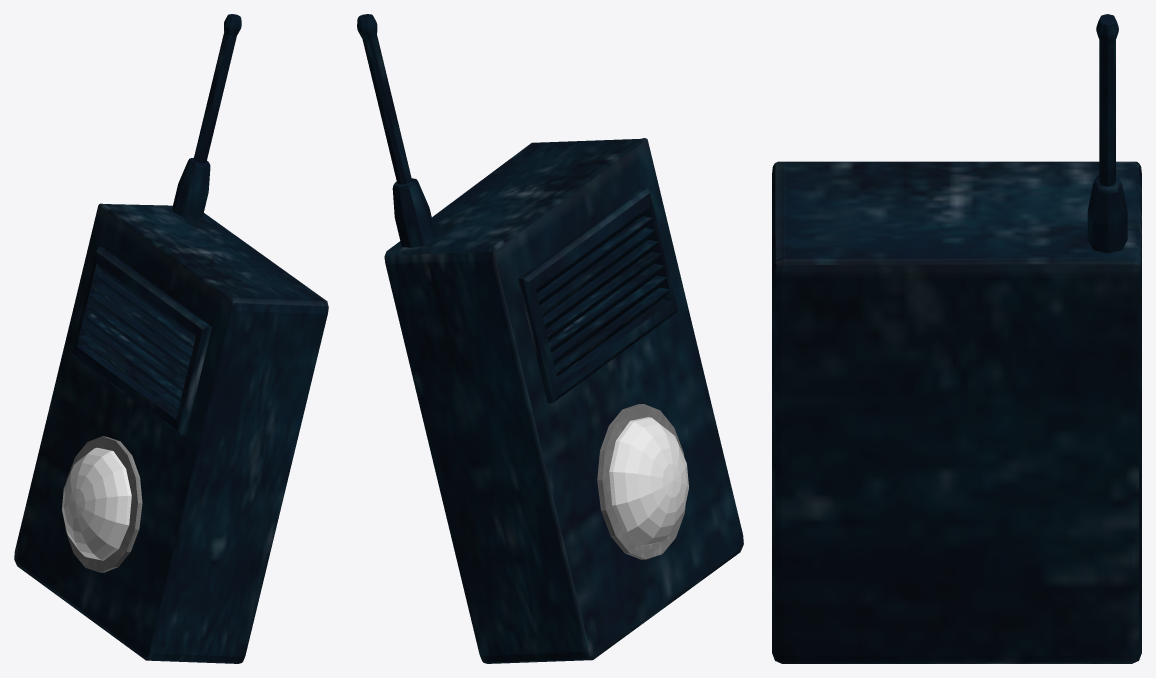
Rendered from Sonar.fbx.
3 views of the same model, side by side, from view 1: azimuth 30°, elevation 25°; view 2: azimuth 150°, elevation 25°; view 3: azimuth 270°, elevation 25° (orthographic). The views are drawn at different scales.
Parts seen in each view (by area): view 1: Base sonar, Led sonar, Base led; view 2: Base sonar, Led sonar, Base led; view 3: Base sonar.
Boxes of the visible parts, left/top/right/bottom form: Base sonar: left=14, top=14, right=328, bottom=663; Led sonar: left=62, top=447, right=131, bottom=560; Base led: left=65, top=436, right=142, bottom=572; Base sonar: left=357, top=14, right=743, bottom=663; Led sonar: left=609, top=417, right=688, bottom=546; Base led: left=597, top=404, right=685, bottom=559; Base sonar: left=772, top=14, right=1141, bottom=663.
Size of the model in its own units: 13.2 by 30.22 by 14.
